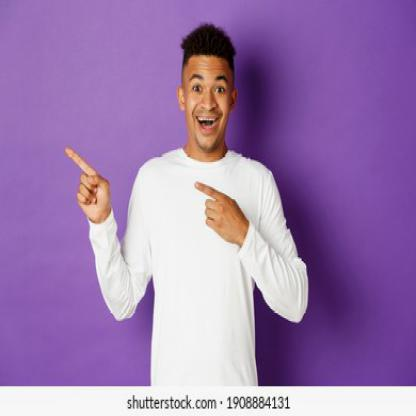Right: (52, 126, 114, 216), (190, 173, 249, 248)
